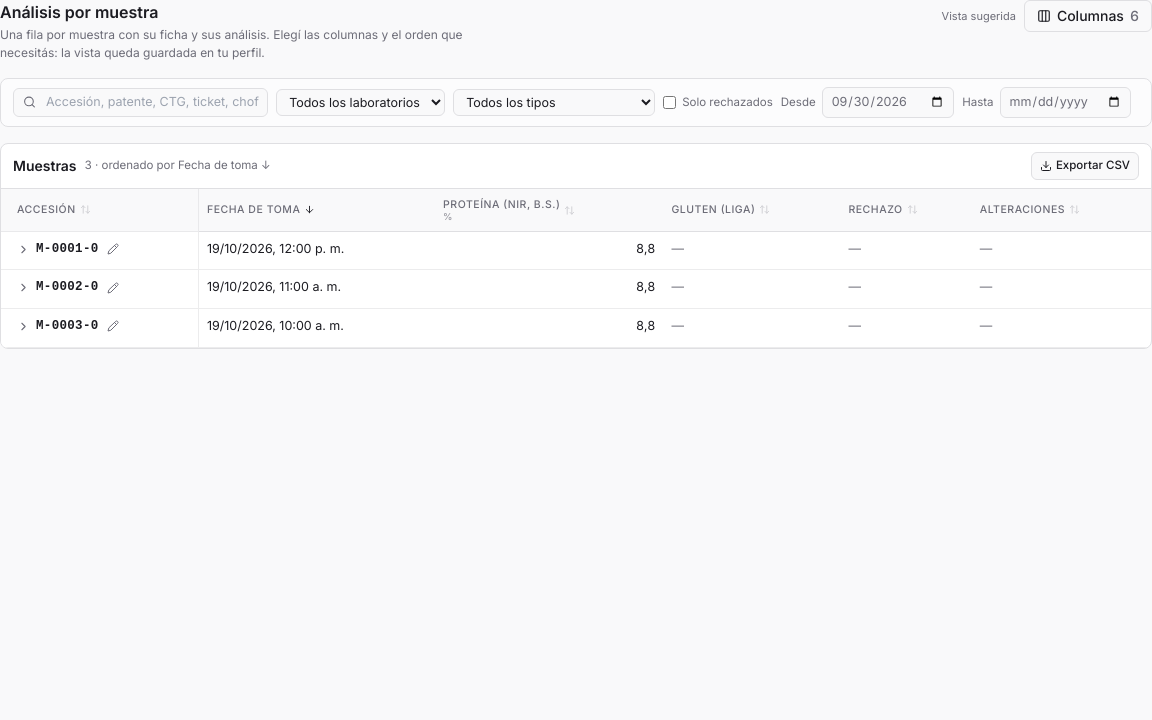
Scenario: LabAnalysisPage: editar la ficha desde la grilla › con QC, el lápiz de la fila abre el formulario de la ficha sin abrir la fila
Click the button named "Editar ficha de M-0001-0" at (112, 249), box [104,241,120,257]
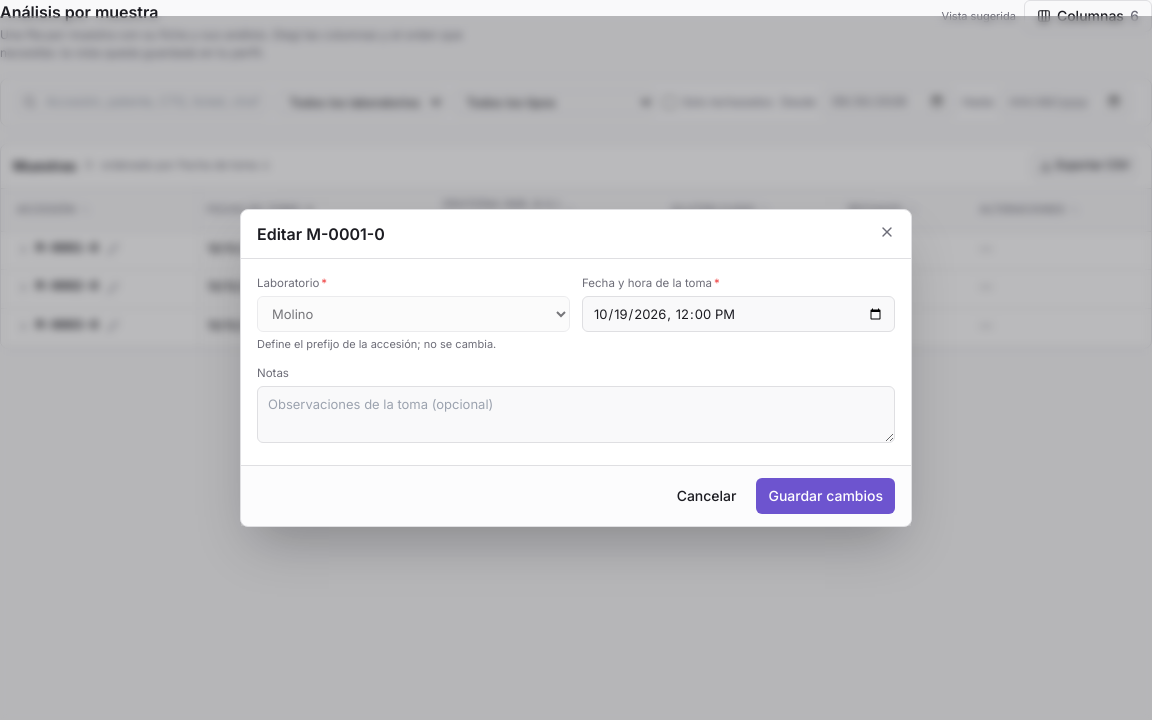
Now the heading "Editar M-0001-0" is shown, box [257,222,385,246]
